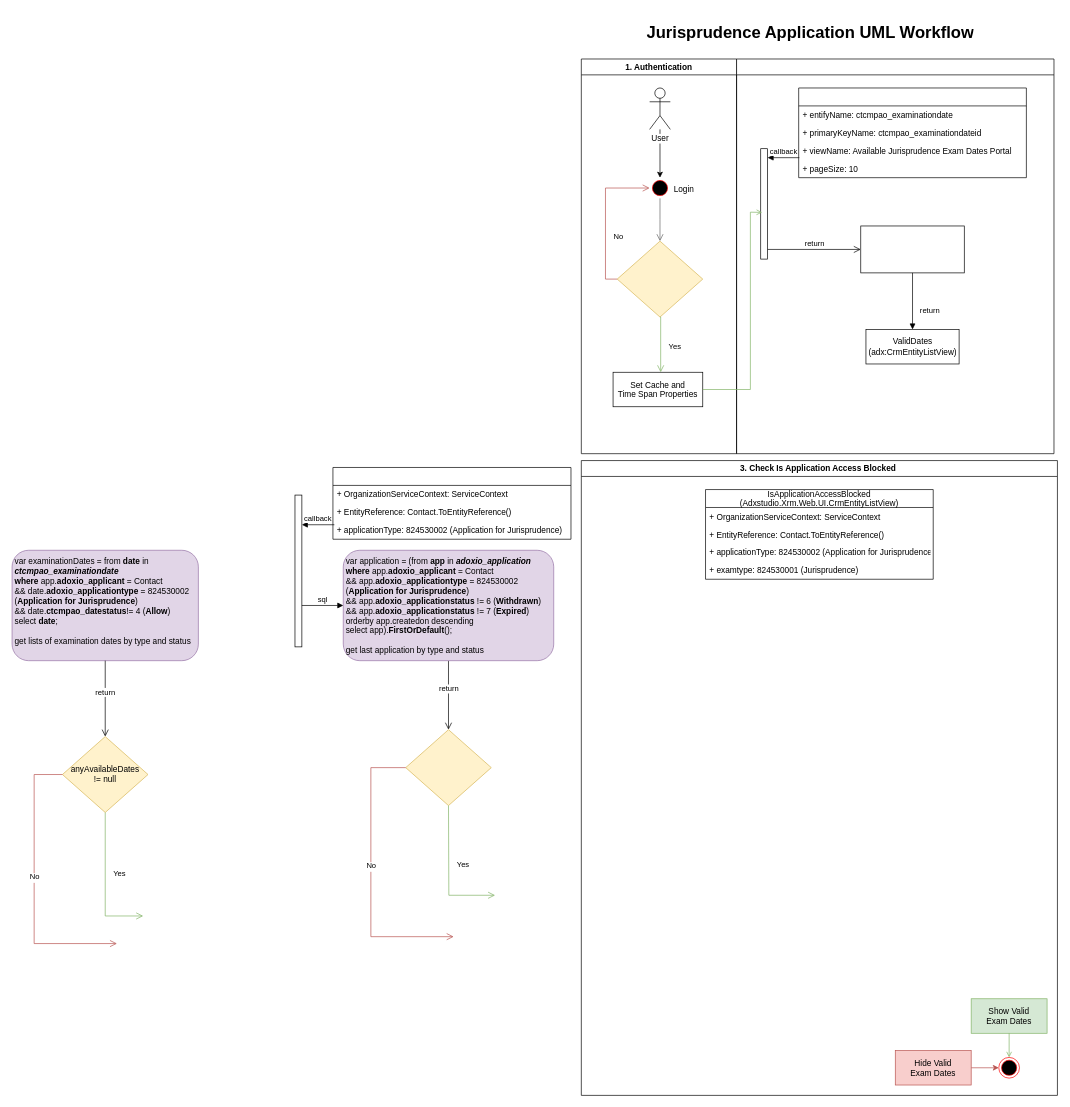
This 1070x1107 diagram has some shape labels left out. Each missing label, with the box of its shape:
2. Load Valid Exam Dates (CrmEnitityListView): (736, 58, 1054, 454)
datesViewConfiguration: (860, 225, 964, 273)
GetLastApplicationBytype (Microsoft.Xrm.Sdk.Entity): (332, 467, 571, 539)
is application == null: (405, 729, 491, 806)
IsAuthenticated: (617, 240, 703, 317)
ViewConfiguration (Adxstudio.Xrm.Web.UI.CrmEntityListView): (798, 87, 1026, 178)
